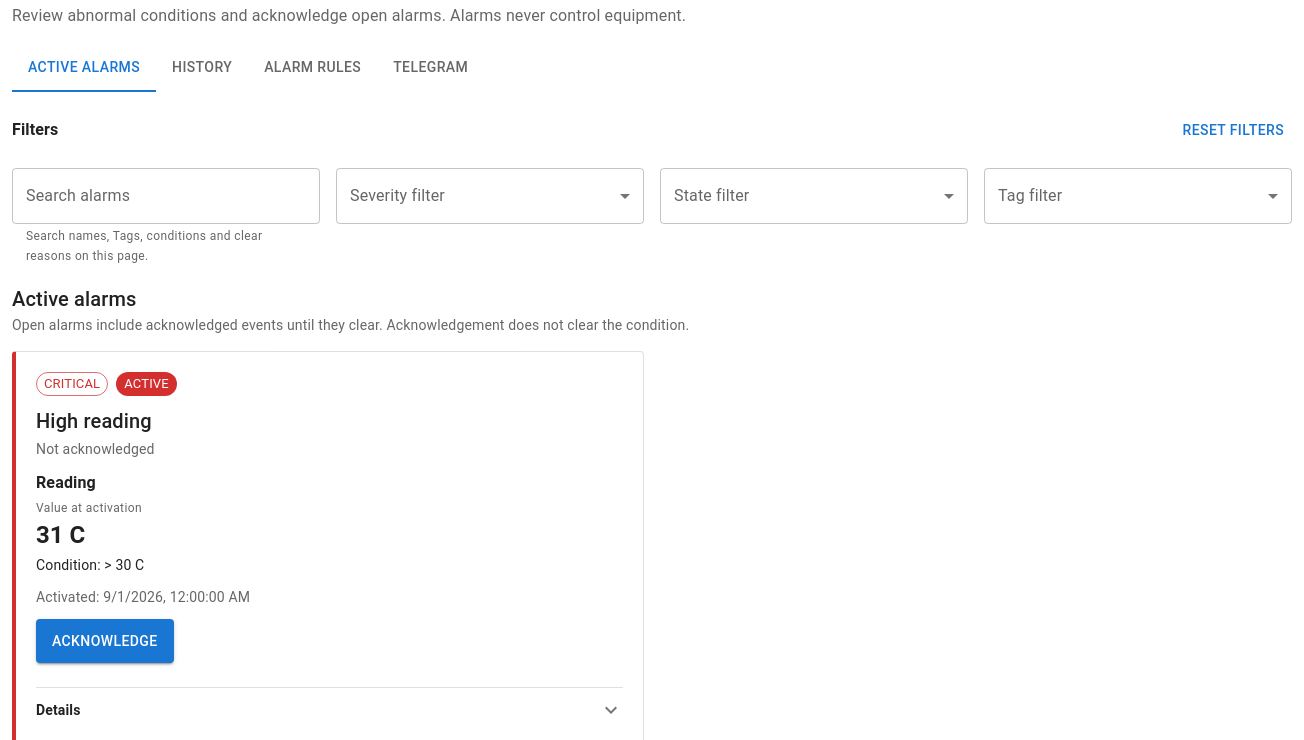
responsive alarm events › separates open events from cleared history and preserves the history query
Click the tab "History" at (202, 68), box [156, 44, 248, 92]
(page scrolled)
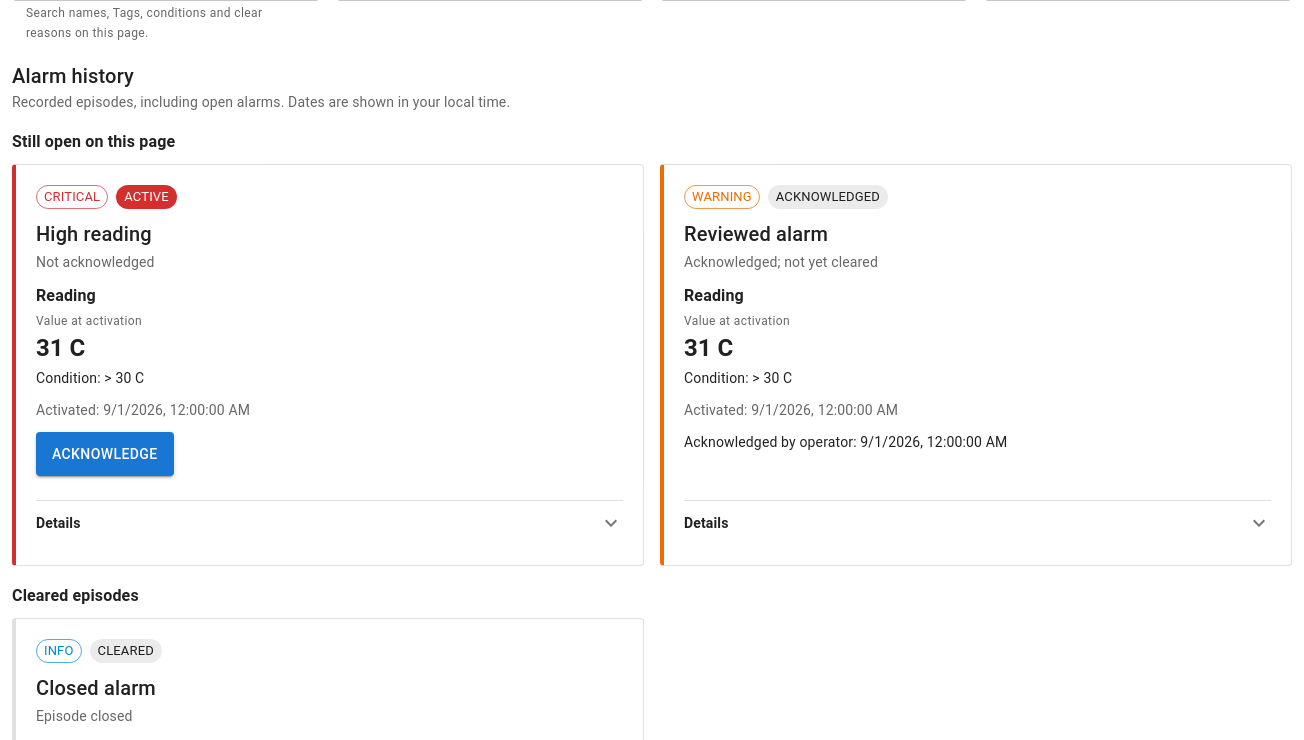
Result: the text "CLEARED" is shown at [98, 643, 154, 658]
Result: the element named "Open alarms" is shown at [12, 128, 1292, 566]
